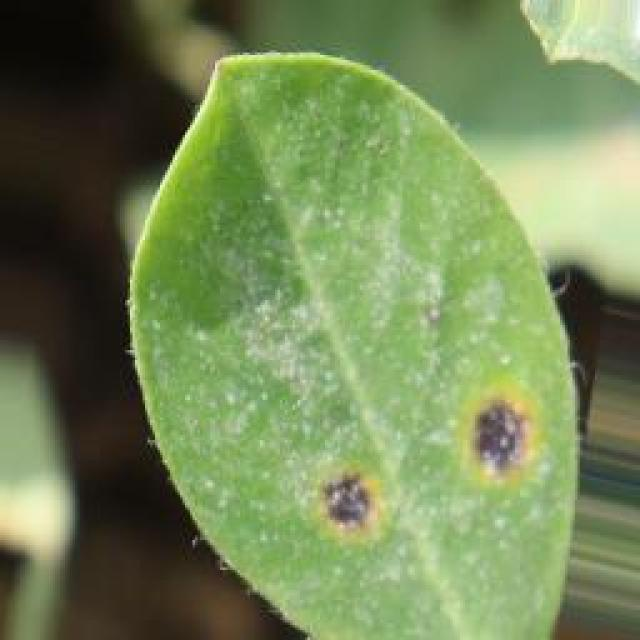Sigatoka: (446, 362, 572, 509), (287, 446, 400, 560)
